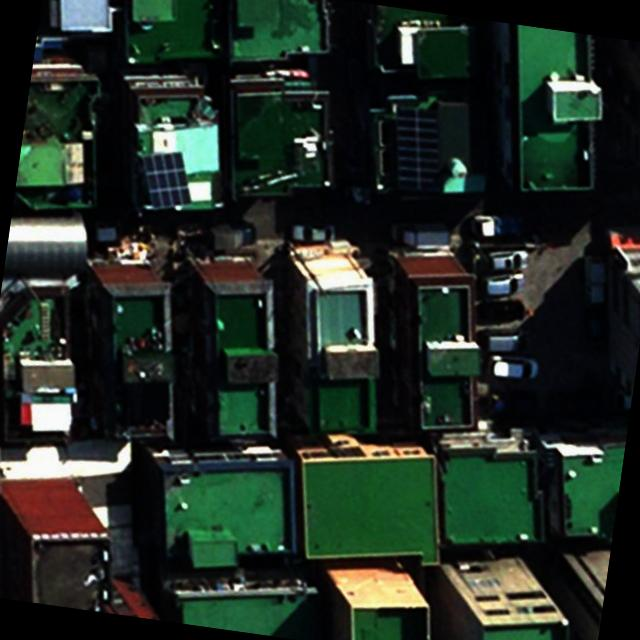solar: (382, 108, 448, 200), (132, 146, 204, 216)
